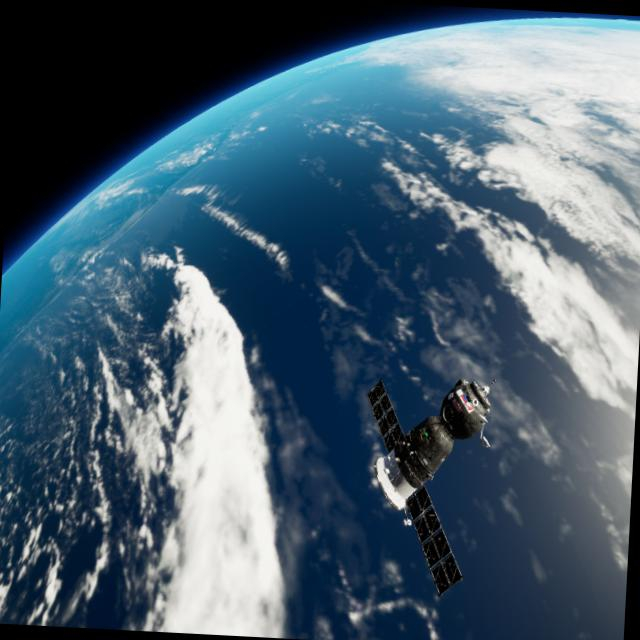Satellites revolving around earth: (0, 0, 640, 640), (353, 368, 498, 600)
